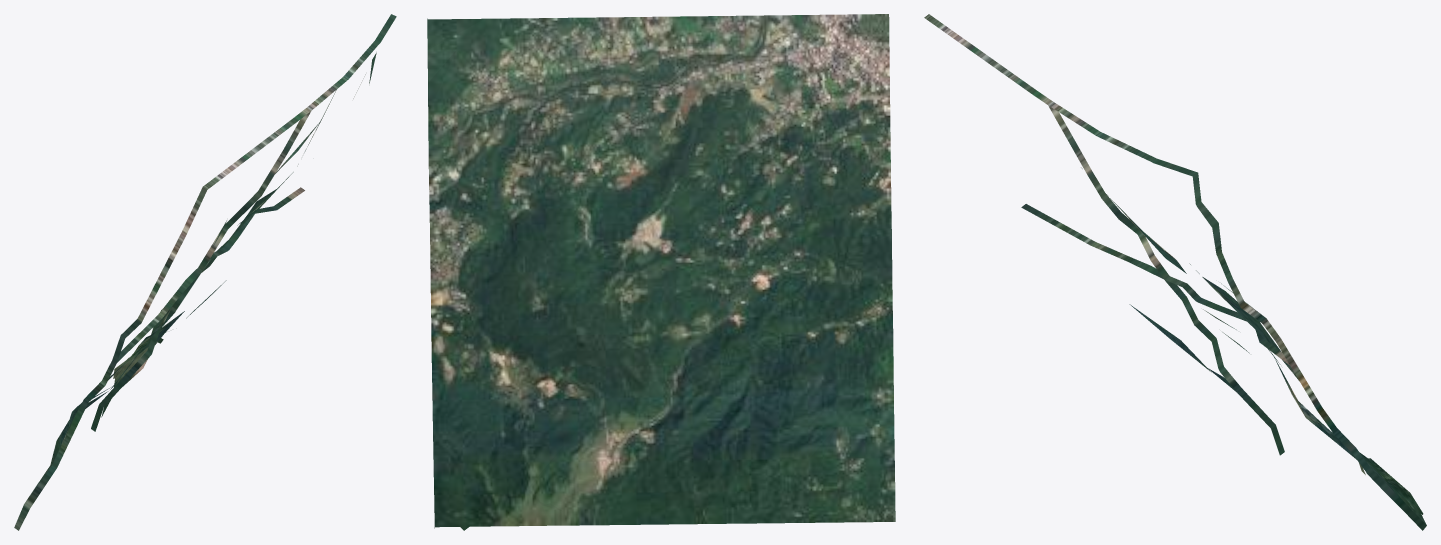
3 views of the same model, side by side, from view 1: azimuth 30°, elevation 25°; view 2: azimuth 150°, elevation 25°; view 3: azimuth 270°, elevation 25° (orthographic). The views are drawn at different scales.
Size of the model in its own units: 4875 by 4471 by 4659.
1 material, 1 textured.
